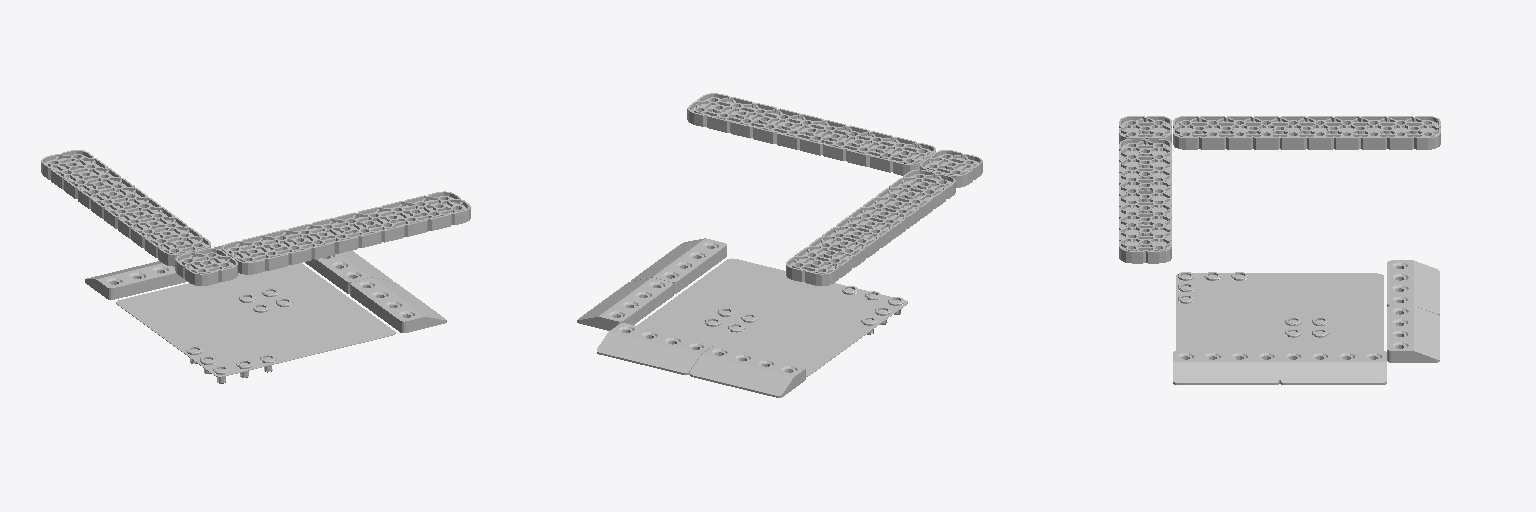
Rendered from VIQRC-MixAndMatch-H2H-_-GameObjects_SquareGoal.obj.
3 views of the same model, side by side, from view 1: azimuth 30°, elevation 25°; view 2: azimuth 150°, elevation 25°; view 3: azimuth 270°, elevation 25° (orthographic).
Parts seen in each view (by area): view 1: Body1:3, Body1, Body6, Body7, Body1:1, Body1:5, Body5, Body1:2, Body1:4, Body11, Body1:7; view 2: Body1:3, Body1, Body6, Body7, Body1:5, Body1:6, Body1:4, Body1:1, Body5, Body1:2, Body1:7, Body11; view 3: Body1, Body6, Body1:3, Body7, Body1:1, Body1:4, Body1:6, Body1:5, Body5, Body1:2, Body11, Body1:7.
Part boxes in pixels (left/top/right/bottom): Body1:3: left=222, top=191, right=470, bottom=274; Body1: left=41, top=150, right=210, bottom=266; Body6: left=173, top=283, right=338, bottom=352; Body7: left=126, top=267, right=385, bottom=376; Body1:1: left=350, top=278, right=446, bottom=332; Body1:5: left=85, top=261, right=187, bottom=299; Body5: left=165, top=279, right=347, bottom=355; Body1:2: left=175, top=248, right=237, bottom=285; Body1:4: left=305, top=251, right=392, bottom=293; Body11: left=217, top=302, right=253, bottom=331; Body1:7: left=258, top=304, right=294, bottom=333; Body1:3: left=687, top=93, right=935, bottom=175; Body1: left=786, top=169, right=955, bottom=285; Body6: left=686, top=283, right=850, bottom=351; Body7: left=638, top=263, right=907, bottom=368; Body1:5: left=690, top=346, right=805, bottom=397; Body1:6: left=597, top=323, right=712, bottom=374; Body1:4: left=577, top=278, right=673, bottom=330; Body1:1: left=631, top=238, right=726, bottom=293; Body5: left=677, top=279, right=859, bottom=355; Body1:2: left=920, top=150, right=982, bottom=187; Body1:7: left=730, top=301, right=800, bottom=316; Body11: left=743, top=318, right=806, bottom=333; Body1: left=1173, top=116, right=1440, bottom=149; Body6: left=1197, top=282, right=1361, bottom=351; Body1:3: left=1119, top=139, right=1171, bottom=263; Body7: left=1176, top=273, right=1383, bottom=350; Body1:1: left=1173, top=351, right=1279, bottom=384; Body1:4: left=1280, top=351, right=1386, bottom=384; Body1:6: left=1387, top=306, right=1439, bottom=362; Body1:5: left=1387, top=260, right=1439, bottom=315; Body5: left=1188, top=279, right=1370, bottom=352; Body1:2: left=1119, top=116, right=1171, bottom=143; Body11: left=1263, top=301, right=1318, bottom=324; Body1:7: left=1241, top=310, right=1288, bottom=333.
Bounding box in the file's own units: 152 × 75.26 × 152.